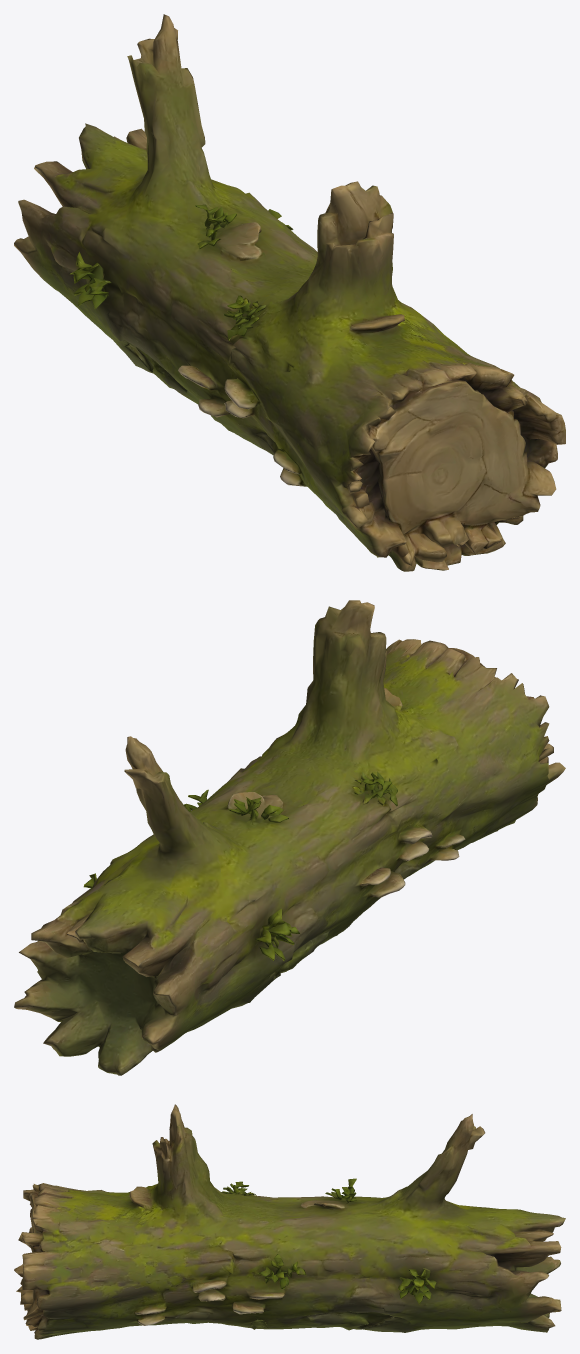
Rendered from tronco_caido.glb.
3 renders of one model, top to bottom at view 1: azimuth 30°, elevation 25°; view 2: azimuth 150°, elevation 25°; view 3: azimuth 270°, elevation 25°, orthographic. The views are drawn at different scales.
Visible parts, largest first — view 1: tripo_node_1918e5af-c42e-4993-8e1d-89eaeeffbab0; view 2: tripo_node_1918e5af-c42e-4993-8e1d-89eaeeffbab0; view 3: tripo_node_1918e5af-c42e-4993-8e1d-89eaeeffbab0.
Boxes of the visible parts, left/top/right/bottom form: tripo_node_1918e5af-c42e-4993-8e1d-89eaeeffbab0: left=14, top=14, right=565, bottom=571; tripo_node_1918e5af-c42e-4993-8e1d-89eaeeffbab0: left=14, top=600, right=565, bottom=1075; tripo_node_1918e5af-c42e-4993-8e1d-89eaeeffbab0: left=14, top=1104, right=565, bottom=1339.
Bounding box in the file's own units: 0.328 × 0.4472 × 1.
1 material, 1 textured.
